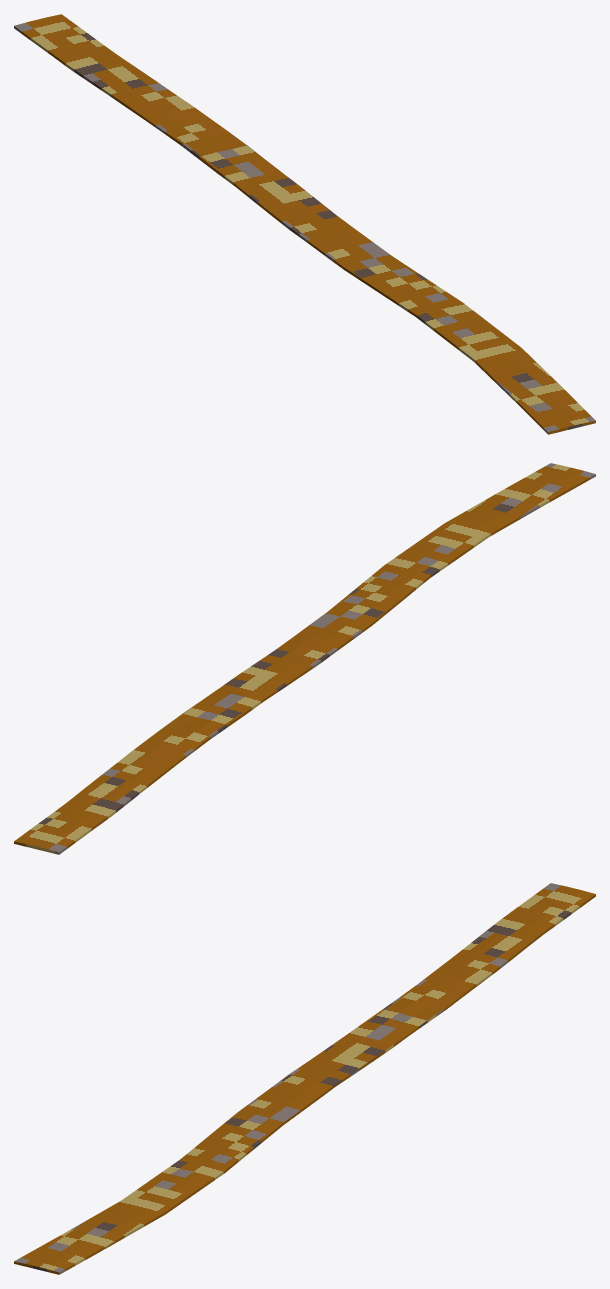
The model's file is Road.fbx.
3 views of the same model, one above another, from view 1: azimuth 30°, elevation 25°; view 2: azimuth 150°, elevation 25°; view 3: azimuth 330°, elevation 25° (orthographic). The views are drawn at different scales.
Parts seen in each view (by area): view 1: Road; view 2: Road; view 3: Road.
Part boxes in pixels (x1,y1,x2,y2): Road: (14, 14, 595, 434); Road: (14, 463, 595, 854); Road: (14, 883, 595, 1274).
Bounding box in the file's own units: 1085 × 58.19 × 15007.
Materials: 1 (1 with a texture image).
